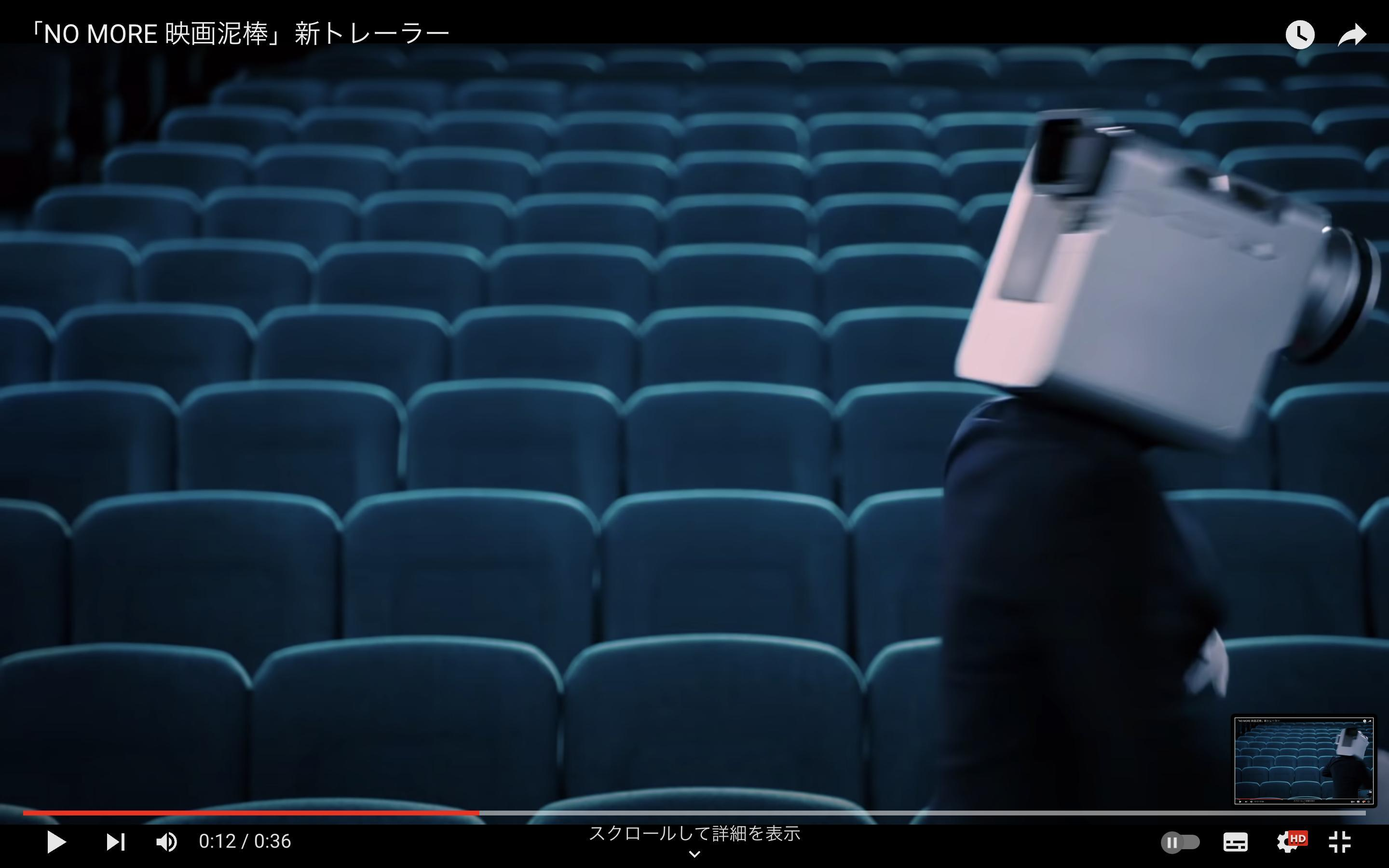no more kid: (945, 96, 1389, 472)
